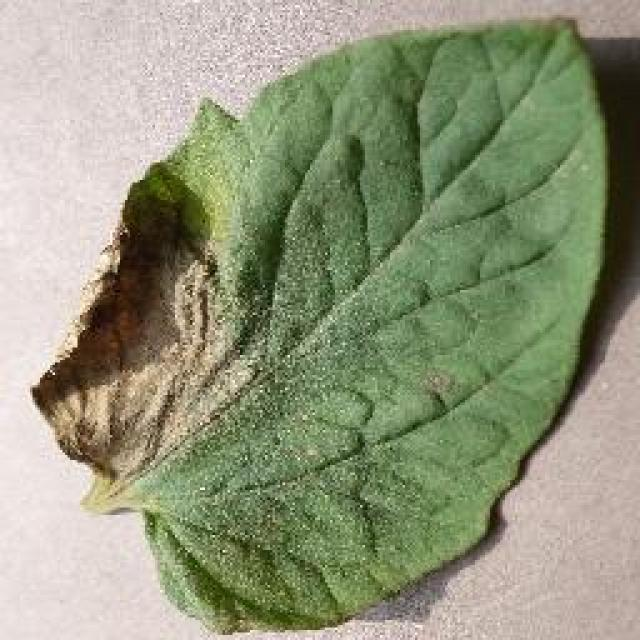Tomato___Late_blight: (30, 18, 625, 638)
